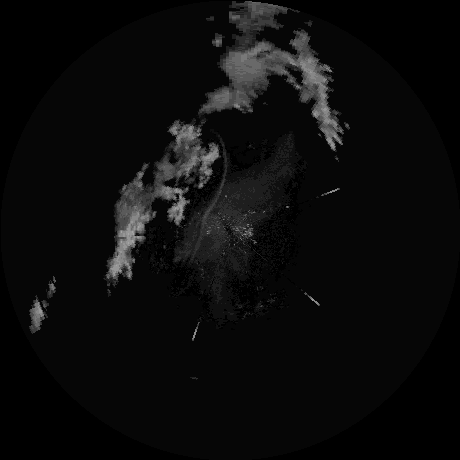frontgust: (190, 193, 218, 272), (218, 138, 230, 191)
